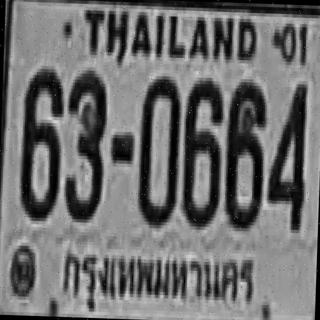N00: (136, 72, 180, 222)
N03: (62, 66, 106, 220)
N04: (266, 80, 306, 227)
N06: (18, 65, 64, 218), (222, 78, 266, 225), (180, 75, 222, 222)
P04: (56, 236, 258, 320)
